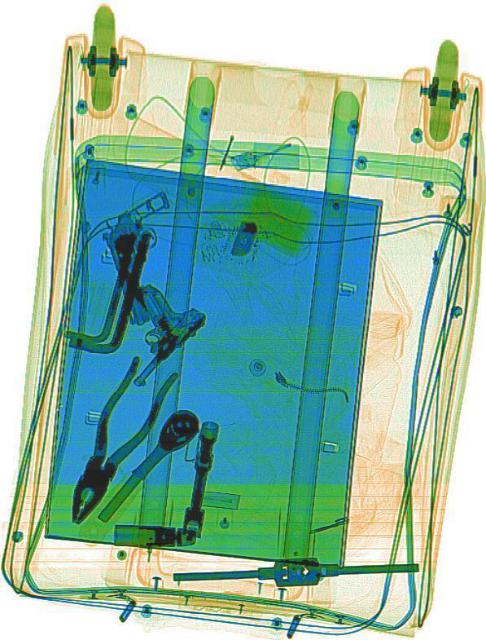Gun: (94, 258, 209, 390), (95, 202, 176, 331)
Pliers: (50, 344, 175, 536)
